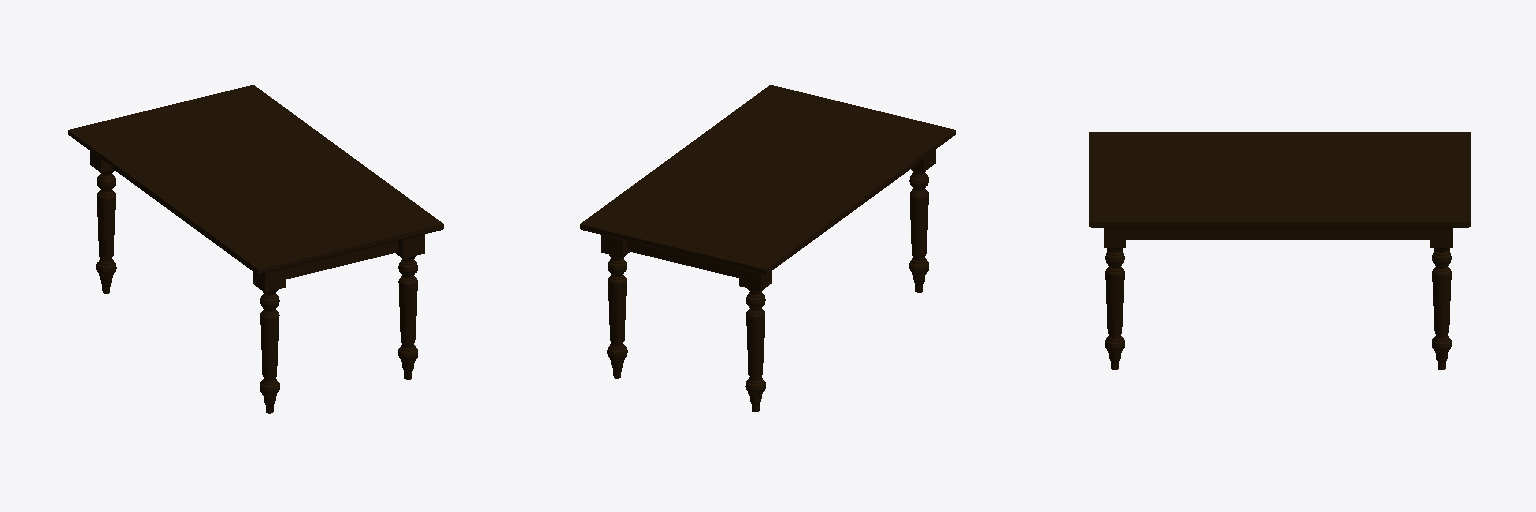
File: table.obj
The picture shows the model from 3 angles: view 1: azimuth 30°, elevation 25°; view 2: azimuth 150°, elevation 25°; view 3: azimuth 270°, elevation 25°; orthographic projection.
Parts seen in each view (by area): view 1: table.001; view 2: table.001; view 3: table.001.
Boxes of the visible parts, <box> form: table.001: <box>68,85,443,413</box>; table.001: <box>580,85,955,411</box>; table.001: <box>1089,132,1470,369</box>.
Bounding box in the file's own units: 9 × 7.3 × 16.